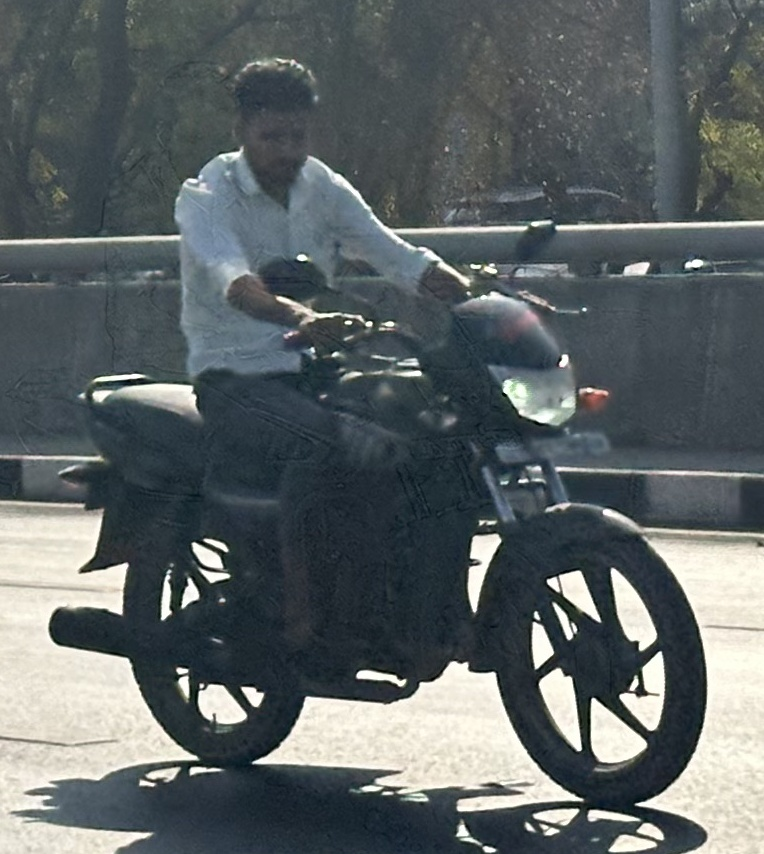BikeWithRider: (37, 47, 719, 814)
NoHelmet: (219, 51, 331, 185)
